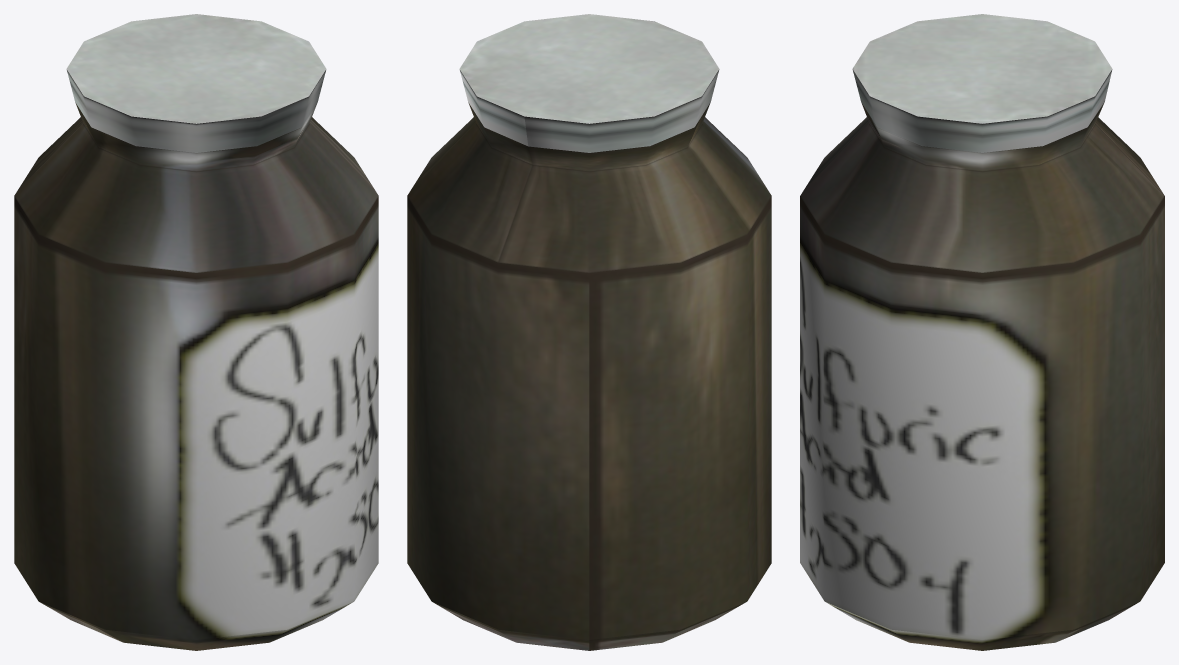
The model's file is item_chemjar_acid.dae.
The picture shows the model from 3 angles, left to right: view 1: azimuth 30°, elevation 25°; view 2: azimuth 150°, elevation 25°; view 3: azimuth 270°, elevation 25°; orthographic projection.
Parts seen in each view (by area): view 1: jar; view 2: jar; view 3: jar.
Part boxes in pixels (<box>): jar: <box>14,14,378,650</box>; jar: <box>407,14,771,650</box>; jar: <box>800,14,1164,650</box>.
Size of what is drawn, in the model's own units: 0.1989 by 0.3132 by 0.1989.
